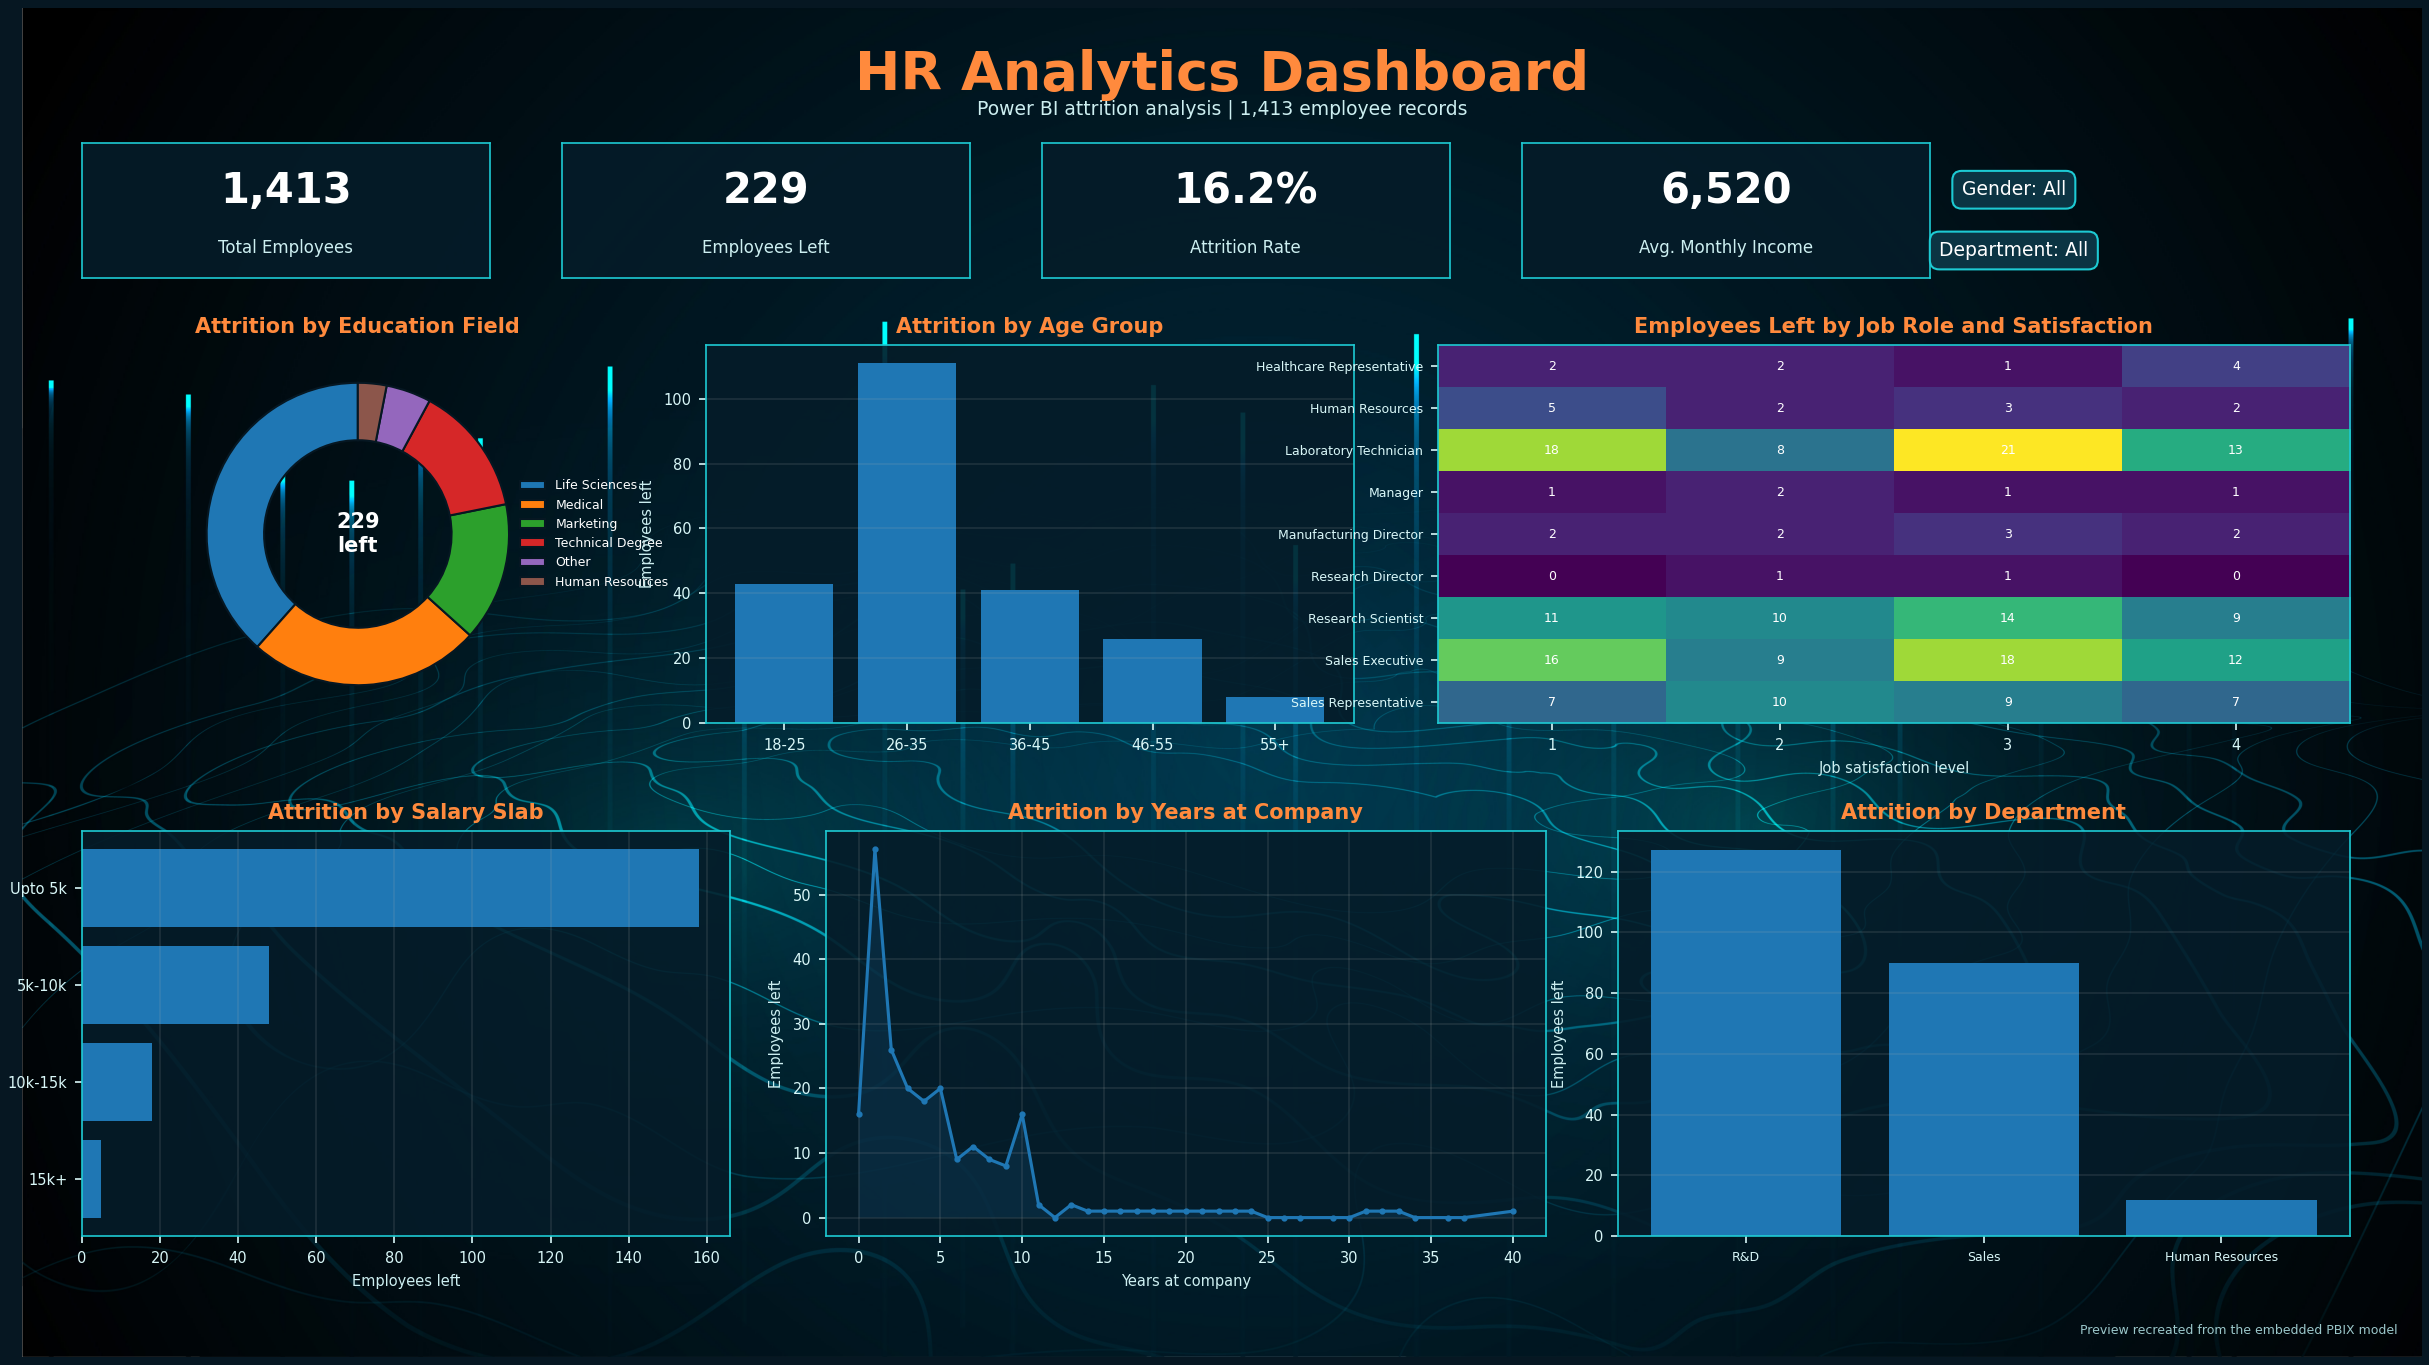

The page's visual inventory and layout, read from the dashboard file:
{"tool":"powerbi","page":{"name":"Page 1","canvas":[1280,720],"ordinal":0},"visuals":[{"type":"cardVisual","title":"Total Employees","fields":{"Data":["HR_Analytics.Total Employees"]},"box":[24.5,106.7,178.7,93.7],"z":0},{"type":"cardVisual","title":"Attrition Rate","fields":{"Data":["HR_Analytics.Attrition Rate"]},"box":[214.8,106.7,187.4,93.7],"z":1000},{"type":"cardVisual","title":"Employees left","fields":{"Data":["HR_Analytics.Employees Left"]},"box":[425.2,108.1,200.4,93.7],"z":2000},{"type":"cardVisual","title":"Average Monthly Income","fields":{"Data":["HR_Analytics.Average Monthly Income"]},"box":[640,108.1,237.8,93.7],"z":3000},{"type":"slicer","title":"Average Monthly Income","fields":{"Values":["HR_Analytics.Gender"]},"box":[905,105,375,70],"z":4000},{"type":"textbox","box":[10.1,0,739.5,85],"z":5000},{"type":"slicer","title":"Average Monthly Income","fields":{"Values":["HR_Analytics.Department"]},"box":[759.6,2.9,501.6,82.2],"z":6000},{"type":"donutChart","title":"Attrition By Education","fields":{"Category":["HR_Analytics.Education Field"],"Y":["HR_Analytics.Employees Left"]},"box":[30,256.2,370,203.8],"z":7000},{"type":"clusteredColumnChart","title":"Attrition By Age group","fields":{"Category":["HR_Analytics.Age Group"],"Y":["HR_Analytics.Employees Left"]},"box":[436.2,258.8,460,201.2],"z":8000},{"type":"pivotTable","title":"Job satisfaction Levels","fields":{"Rows":["HR_Analytics.Job Role"],"Columns":["HR_Analytics.Job Satisfaction"],"Values":["HR_Analytics.Employees Left"]},"box":[921.2,186.2,340,291.2],"z":9000},{"type":"barChart","title":"Attrition By Salary","fields":{"Category":["HR_Analytics.Salary Slab"],"Y":["HR_Analytics.Employees Left"]},"box":[10,477.5,392.5,233.8],"z":10000},{"type":"lineChart","title":"Attrition by Experience","fields":{"Category":["HR_Analytics.Years At Company"],"Y":["HR_Analytics.Employees Left"]},"box":[425,481.2,368.8,226.2],"z":11000},{"type":"columnChart","title":"Attrition by Department","fields":{"Category":["HR_Analytics.Department"],"Y":["HR_Analytics.Employees Left"]},"box":[851.2,493.8,410,213.8],"z":12000}]}

Visuals, with their boxes in screenshot pixels (x1, y1, x2, y2), scaled from the page's 1280x720 canvas onto the 2429x1365 screenshot:
"Total Employees" cardVisual: region(46, 202, 386, 380)
"Attrition Rate" cardVisual: region(408, 202, 763, 380)
"Employees left" cardVisual: region(807, 205, 1187, 383)
"Average Monthly Income" cardVisual: region(1214, 205, 1666, 383)
"Average Monthly Income" slicer: region(1717, 199, 2428, 332)
textbox: region(19, 0, 1422, 161)
"Average Monthly Income" slicer: region(1441, 5, 2393, 161)
"Attrition By Education" donutChart: region(57, 486, 759, 872)
"Attrition By Age group" clusteredColumnChart: region(828, 491, 1701, 872)
"Job satisfaction Levels" pivotTable: region(1748, 353, 2393, 905)
"Attrition By Salary" barChart: region(19, 905, 764, 1349)
"Attrition by Experience" lineChart: region(807, 912, 1506, 1341)
"Attrition by Department" columnChart: region(1615, 936, 2393, 1341)
